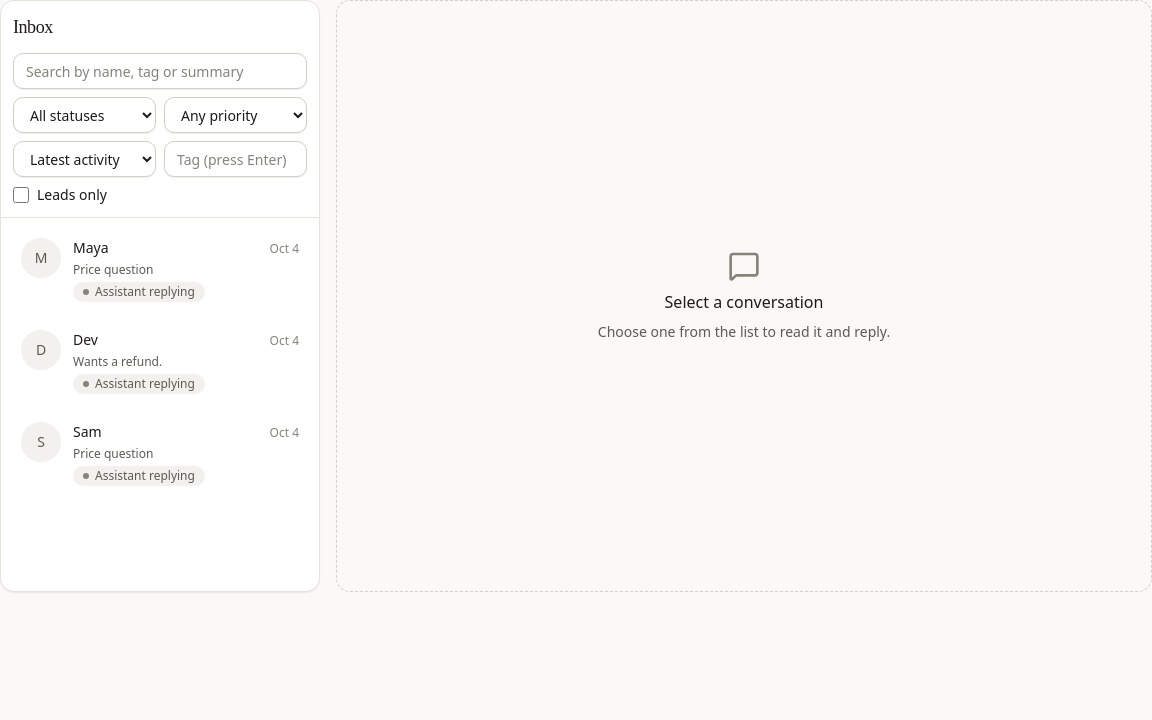
it: conversation list › search and sort happen in the browser › searches names, handles, tags and summaries without asking the server again
The width and height of the screenshot is (1152, 720).
Check: the text "Sam" is shown, box left=73, top=422, right=102, bottom=442
Type "maya" into the search field with placeholder "Search by name, tag or summary". click: (160, 71)
box: left=13, top=53, right=307, bottom=89
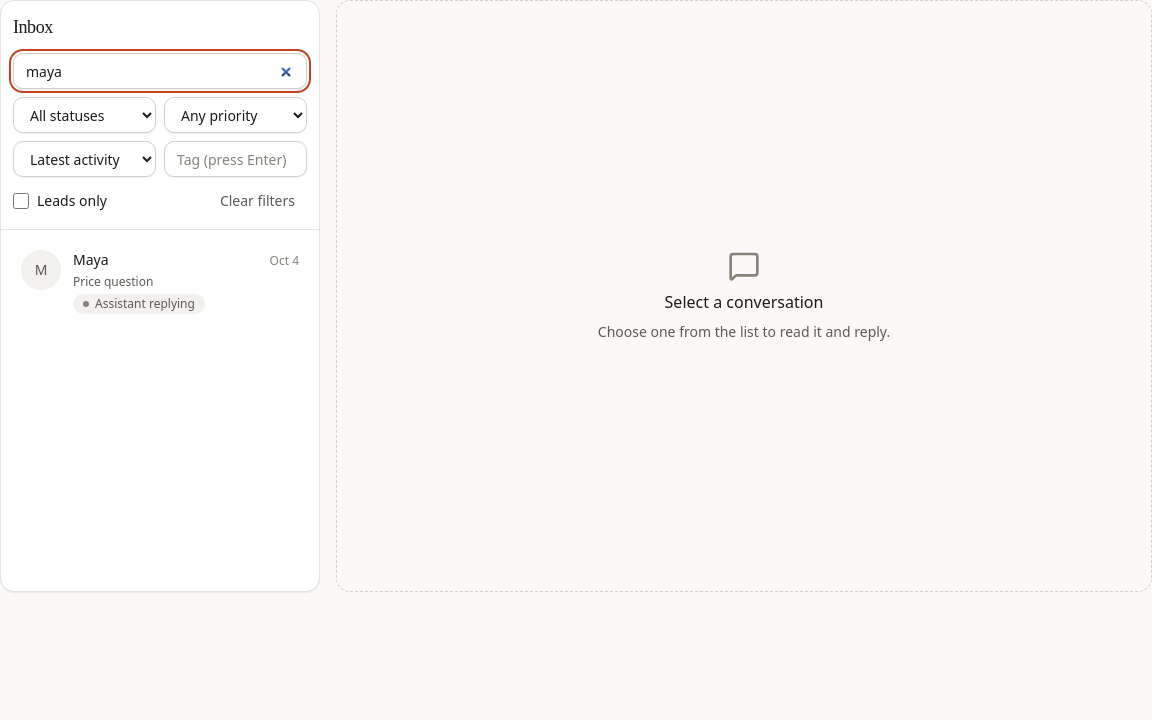
Check: the text "Maya" is shown, box left=73, top=250, right=108, bottom=270
Check: the number of links is 1, box left=9, top=238, right=311, bottom=326
Replace the text in the search field named "Search loaded conversations" with "@dev.ig". click: (160, 71)
box: left=13, top=53, right=307, bottom=89
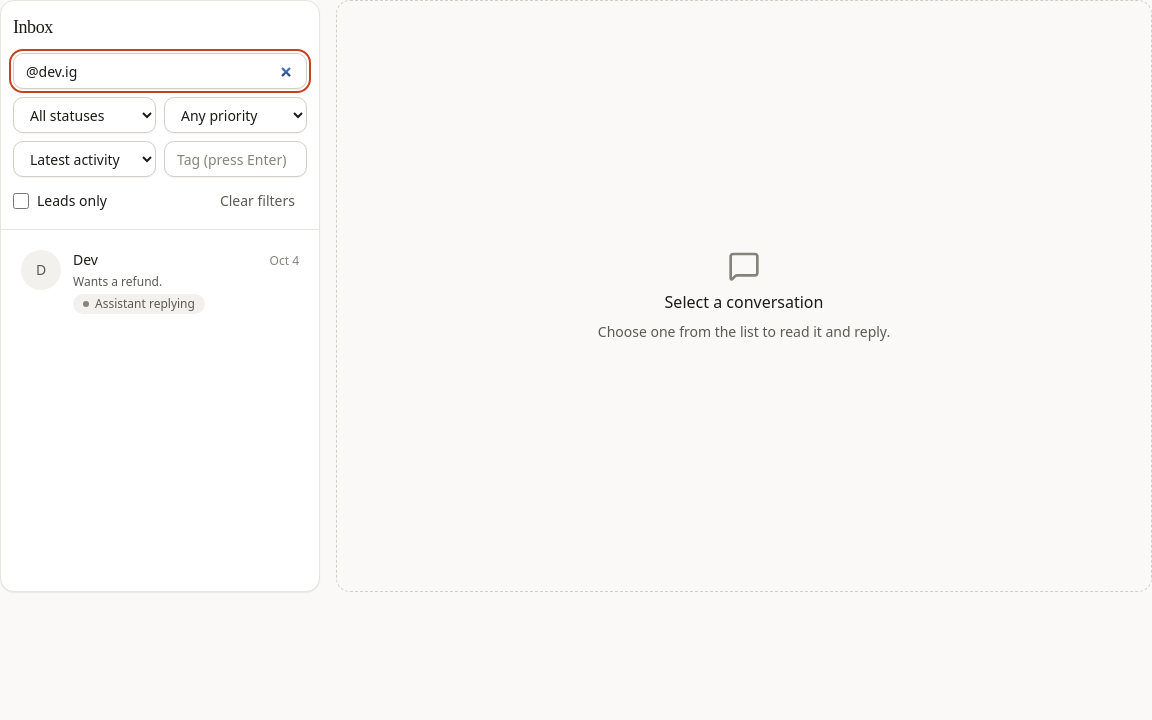
Check: the text "Dev" is shown, box left=73, top=250, right=98, bottom=270
Check: the number of links is 1, box left=9, top=238, right=311, bottom=326
Replace the text in the search field named "Search loaded conversations" with "WHOLESALE". click: (160, 71)
box: left=13, top=53, right=307, bottom=89
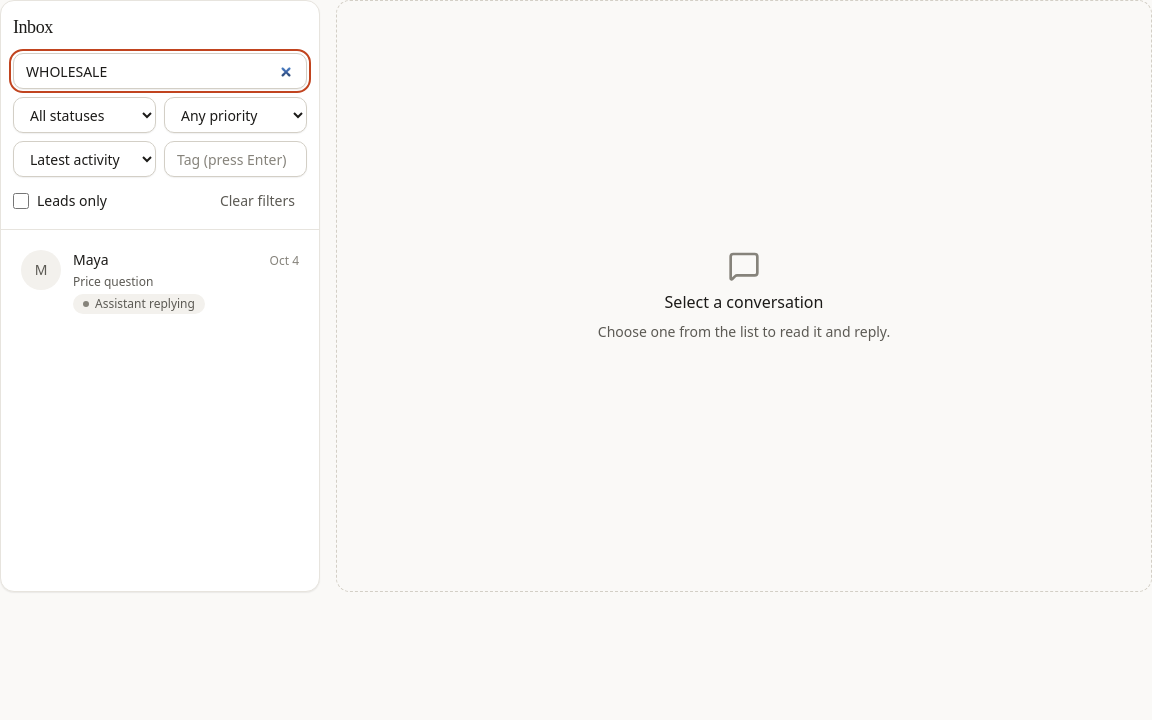
Check: the text "Maya" is shown, box left=73, top=250, right=108, bottom=270
Check: the number of links is 1, box left=9, top=238, right=311, bottom=326
Replace the text in the search field named "Search loaded conversations" with "refund". click: (160, 71)
box: left=13, top=53, right=307, bottom=89
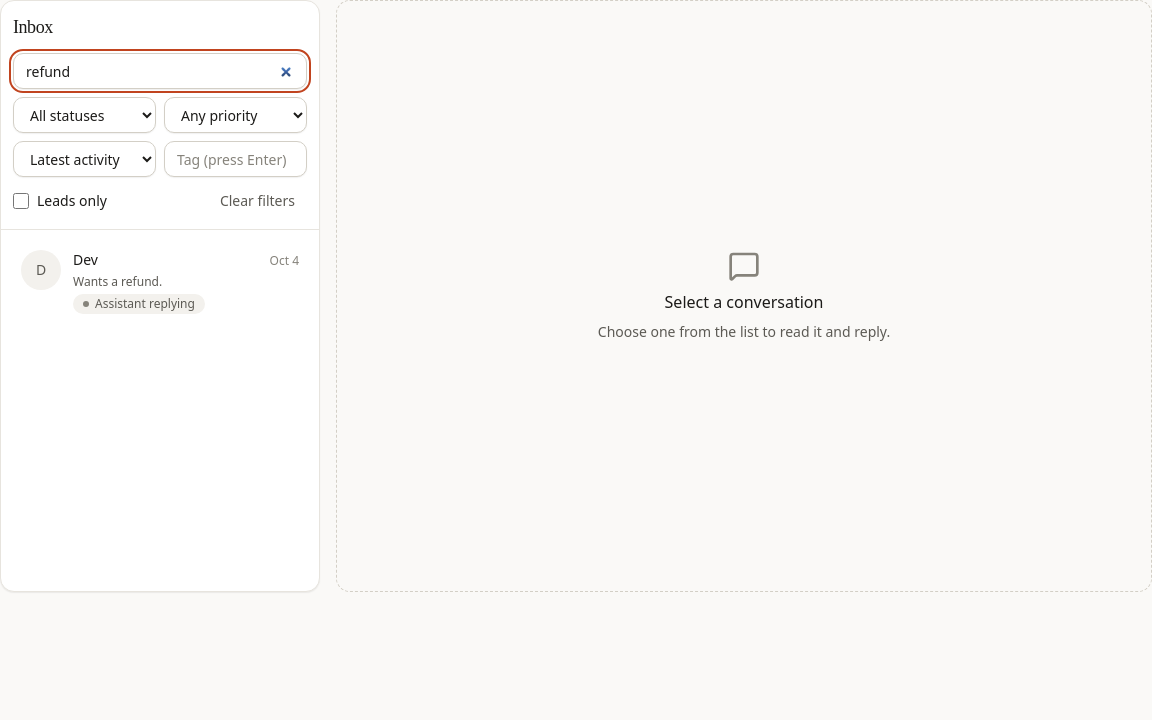
Check: the text "Dev" is shown, box left=73, top=250, right=98, bottom=270
Check: the number of links is 1, box left=9, top=238, right=311, bottom=326
